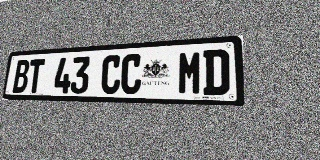3: (70, 56, 90, 94)
4: (53, 57, 73, 93)
B: (12, 60, 30, 93)
C: (120, 54, 143, 94), (100, 55, 122, 94)
D: (203, 49, 229, 95)
M: (177, 50, 202, 95)
T: (26, 59, 45, 93)
